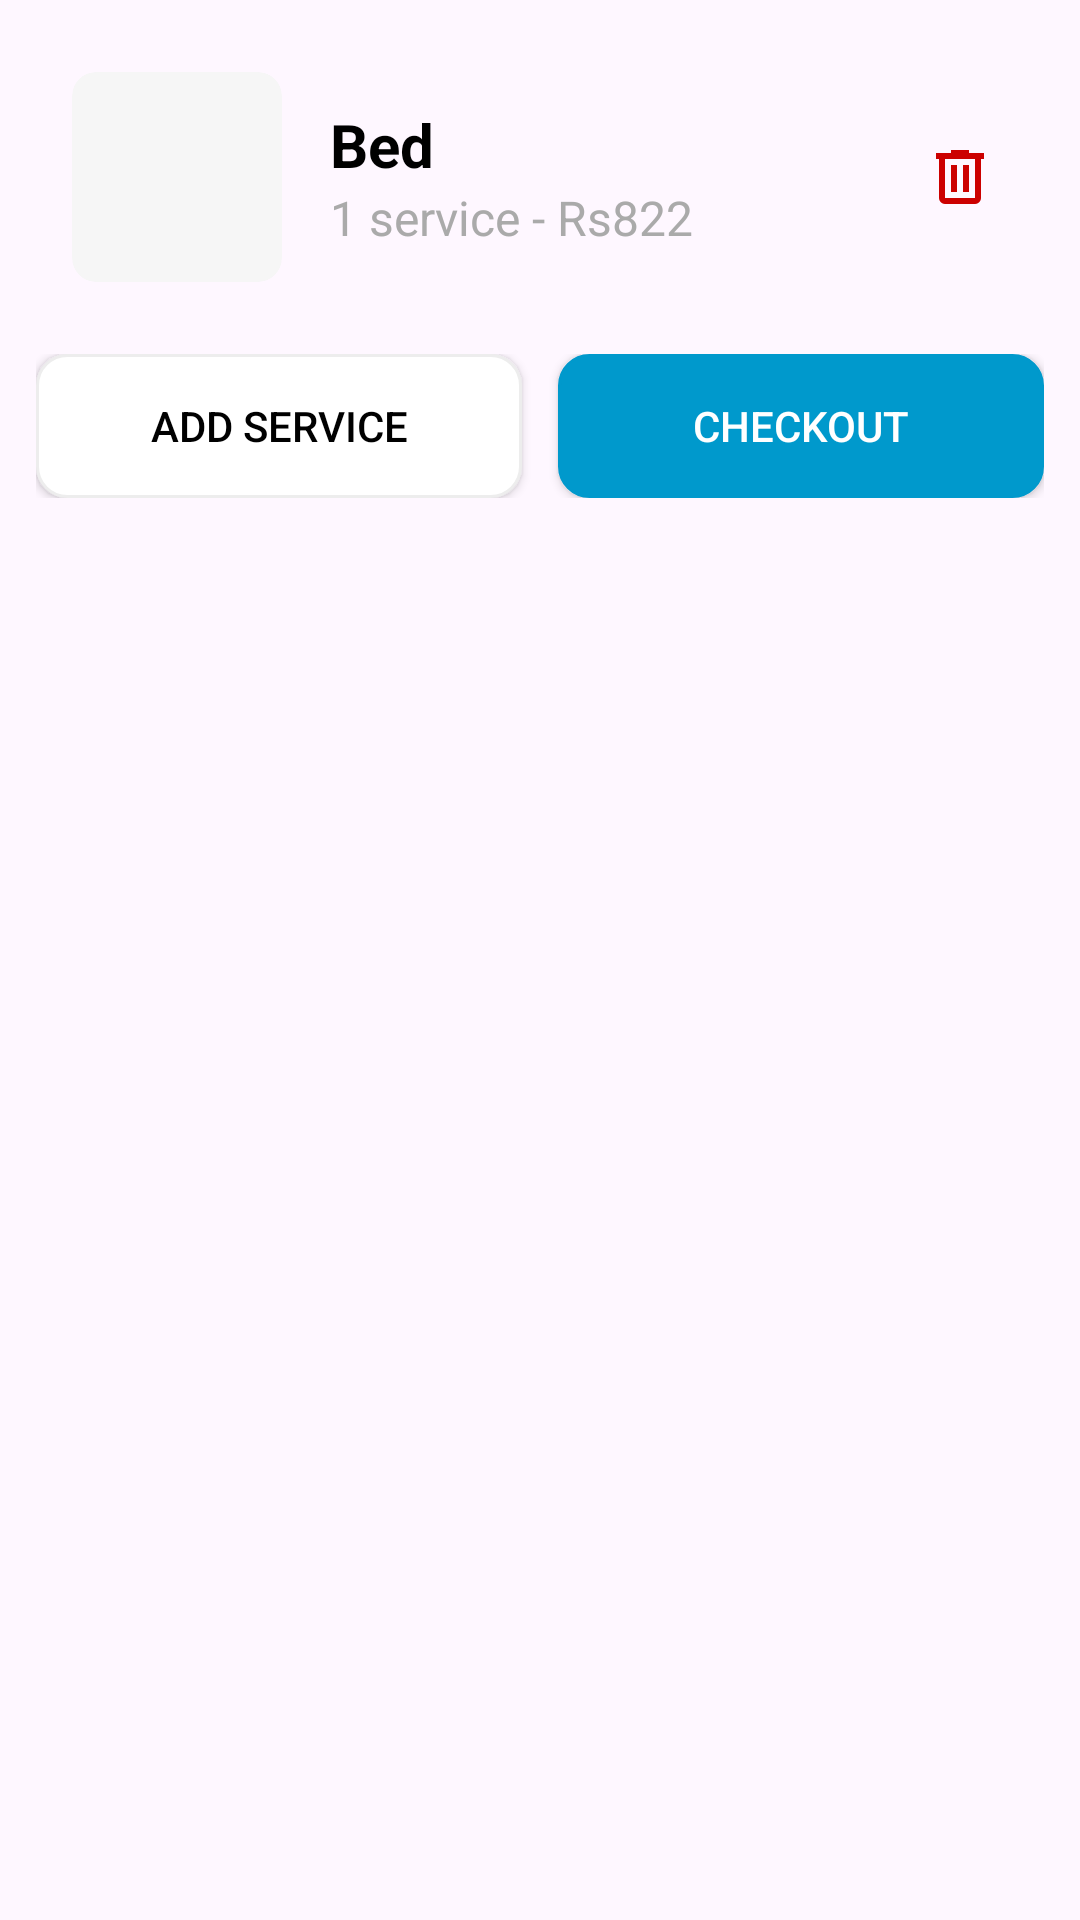

Point at icon controls on the screen. Image size 1080px×1920px, points as (x,y).
delete: (960,177)
